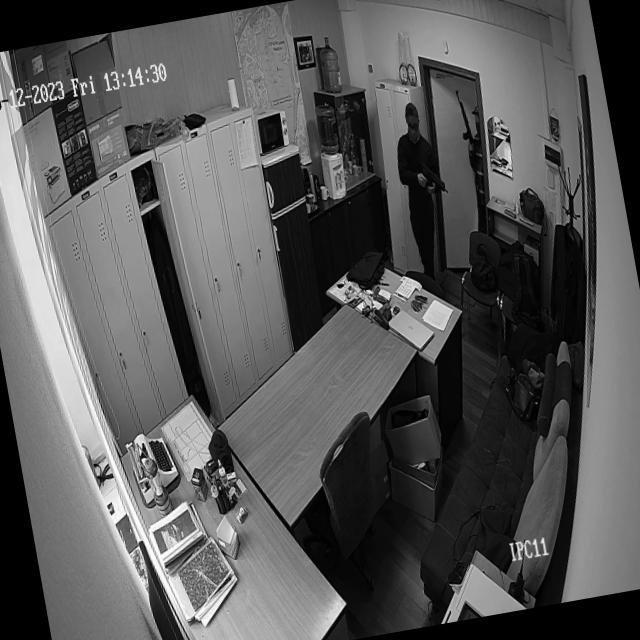gun: (451, 87, 475, 150), (416, 158, 448, 198)
person with a gun: (387, 99, 448, 273), (458, 100, 497, 230)
